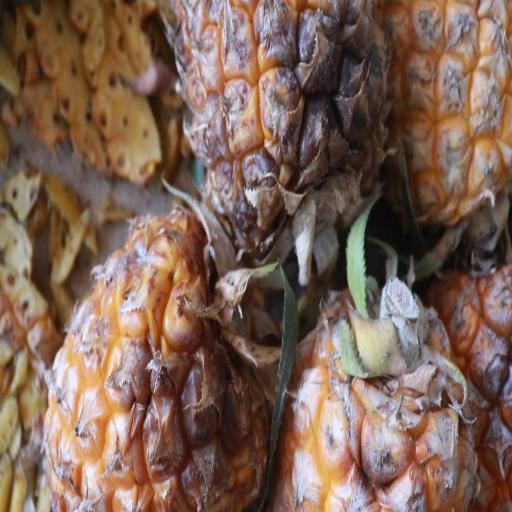Pineapple - v8 v1: (43, 200, 286, 512), (174, 0, 398, 263), (267, 267, 489, 512), (391, 3, 512, 251)
